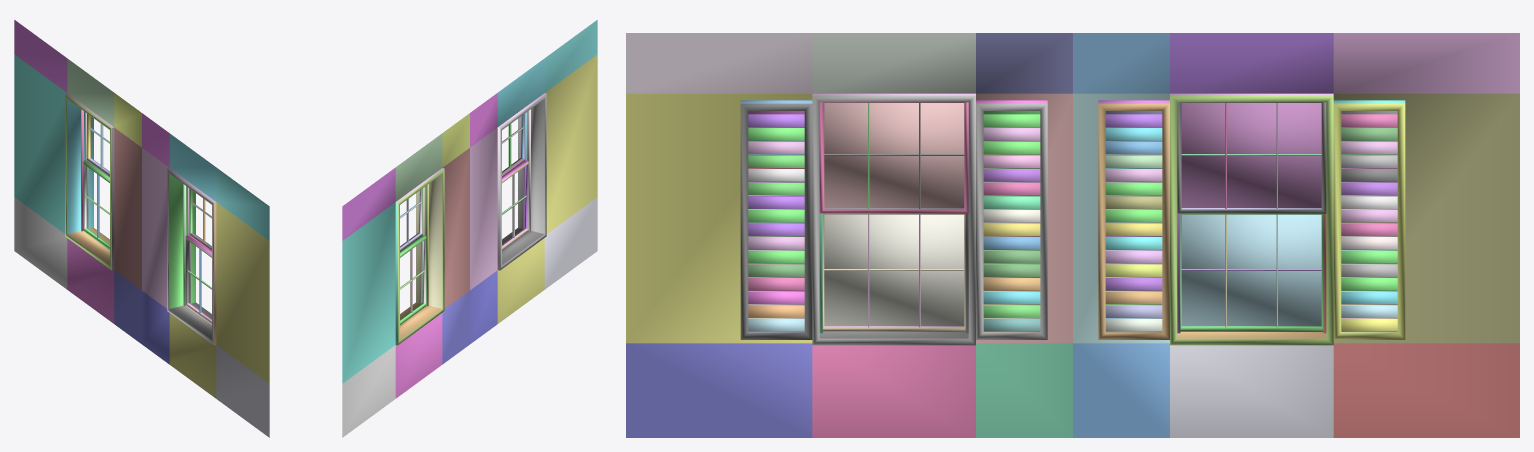
The model's file is SM_window_02_long.gltf.
3 views of the same model, side by side, from view 1: azimuth 30°, elevation 25°; view 2: azimuth 150°, elevation 25°; view 3: azimuth 270°, elevation 25° (orthographic). The views are drawn at different scales.
Visible parts, largest first — view 1: SM_window_02_long; view 2: SM_window_02_long; view 3: SM_window_02_long.
Part boxes in pixels (x1,y1,x2,y2): SM_window_02_long: (14, 20, 269, 437); SM_window_02_long: (342, 20, 597, 437); SM_window_02_long: (626, 33, 1519, 437).
Size of the model in its own units: 0.403 by 3 by 6.
